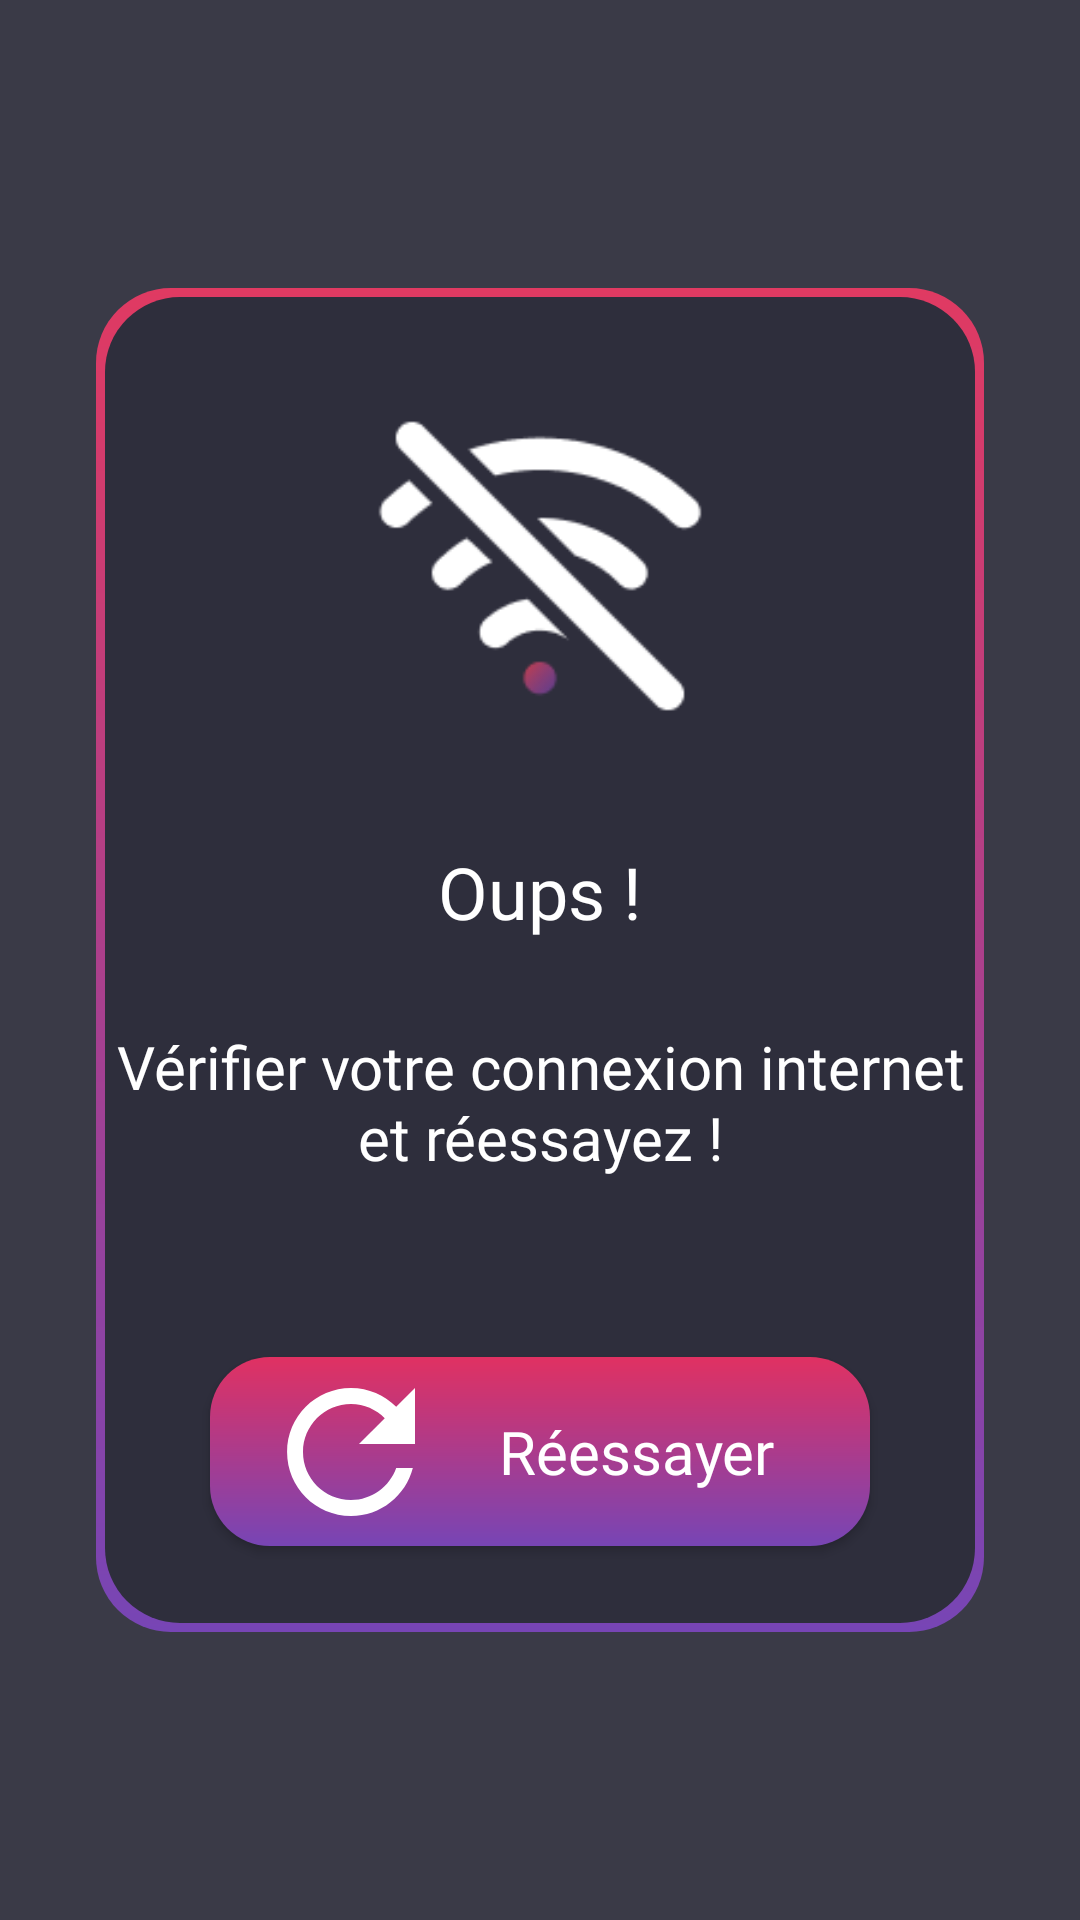

Icons on this 1080 x 1920 Android screen, each with its box as (x1,y1,x2,y2):
no connection icon: (379,421,702,711)
